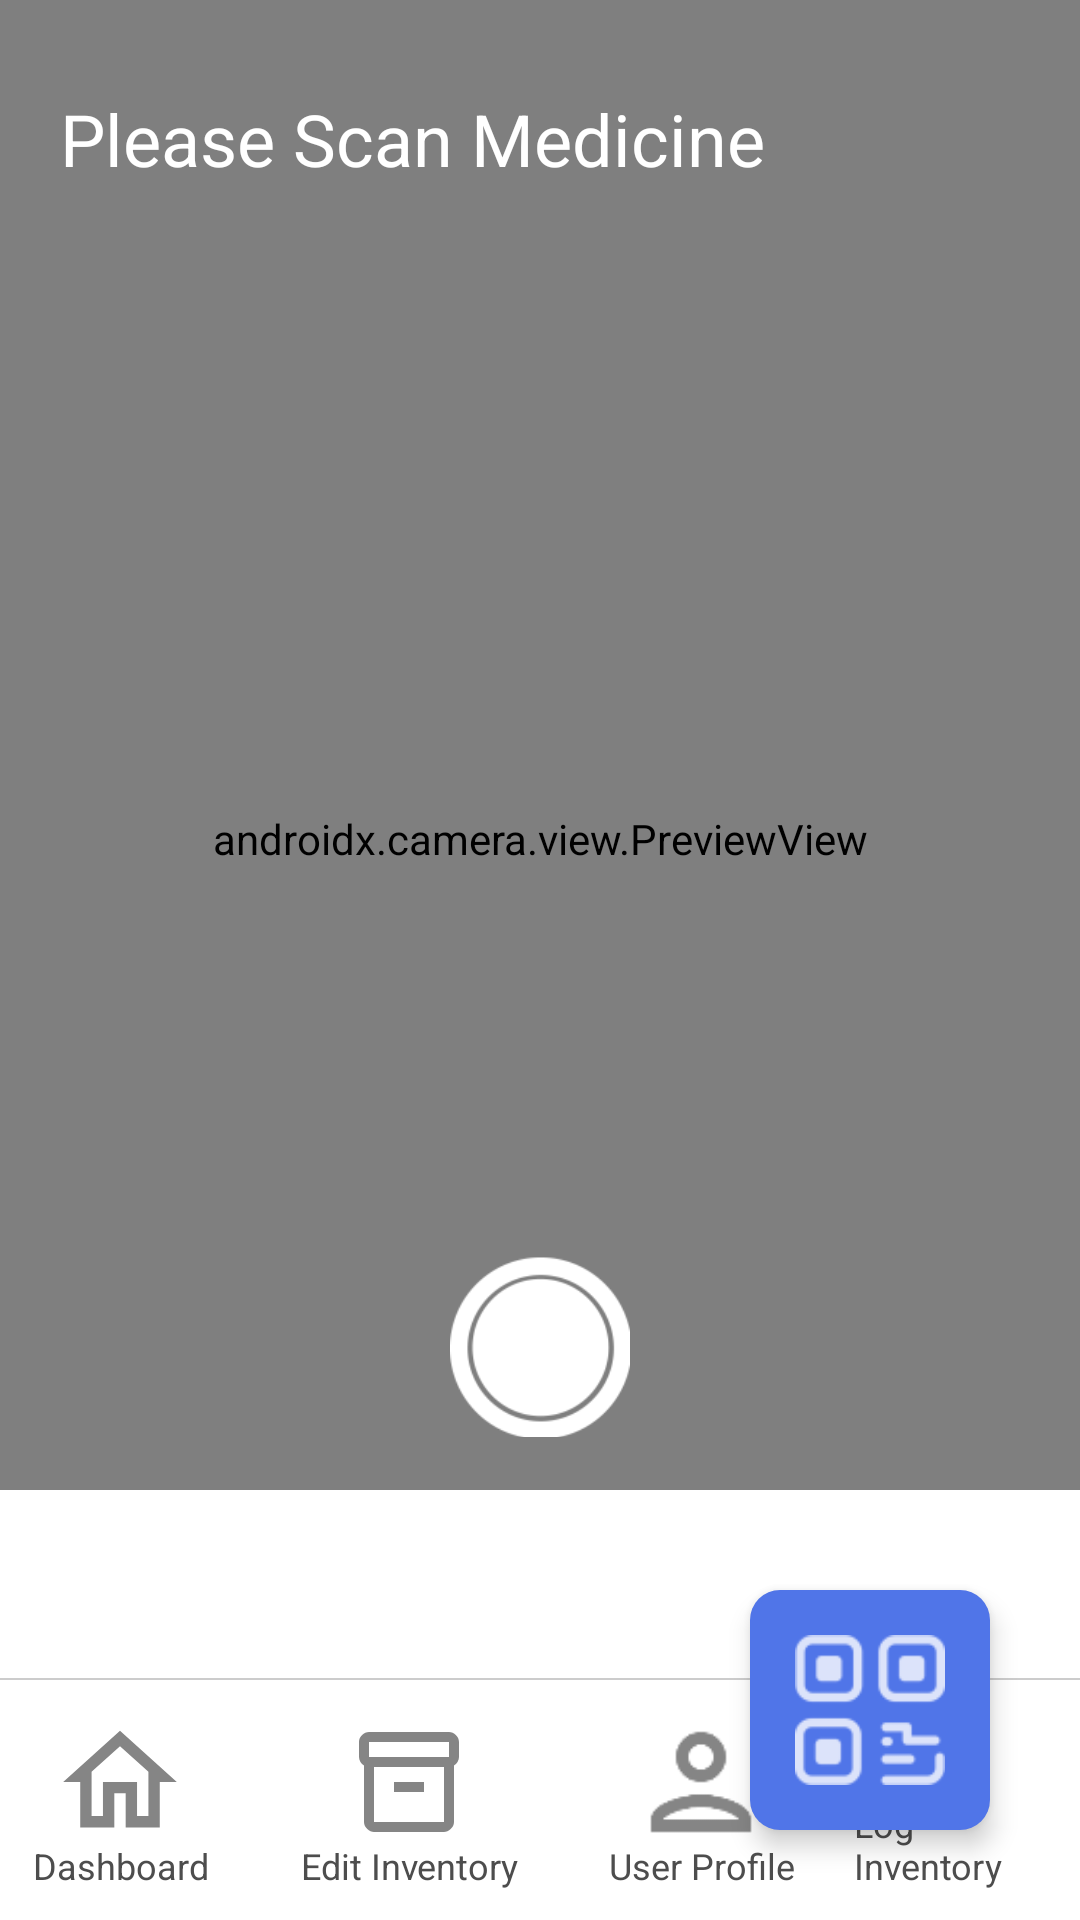

Locate icon controls on the screen. Image size 1080x1920, boxes as (x1, y1, x2, y2).
home grayo: (63, 1731, 177, 1828)
take pic: (450, 1257, 630, 1437)
